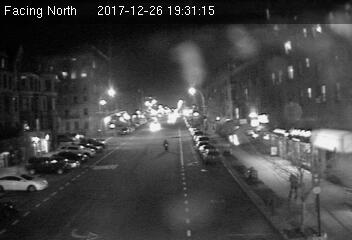car: (201, 148, 220, 163)
